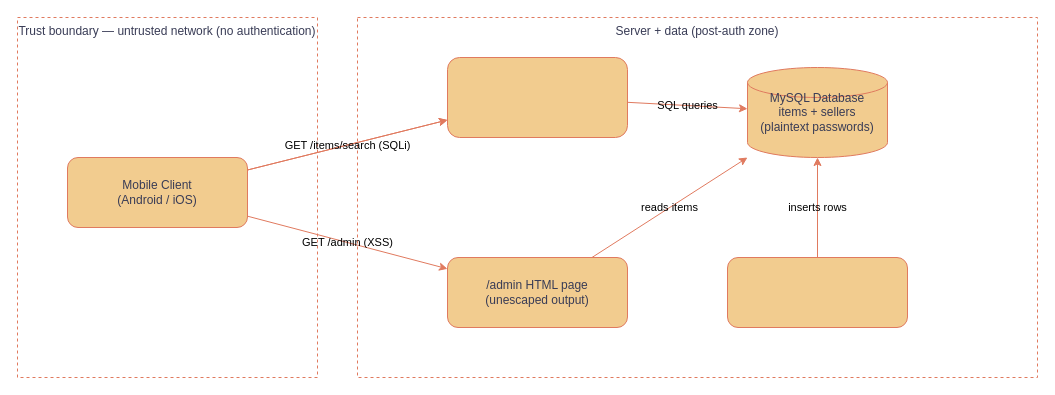
Image size: 1055x395. Some labels were removed from this diagram. The shapes that lost their labels are listed below. From the top down, each one's centre as x and y in pixels, then its label:
(x=537, y=97): FastAPI Backend (app.py) NO AUTH
(x=817, y=292): seed.py (seeds items + sellers)
